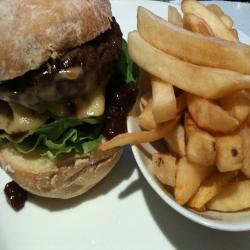burger: (1, 1, 133, 196)
fries: (137, 14, 248, 211)
